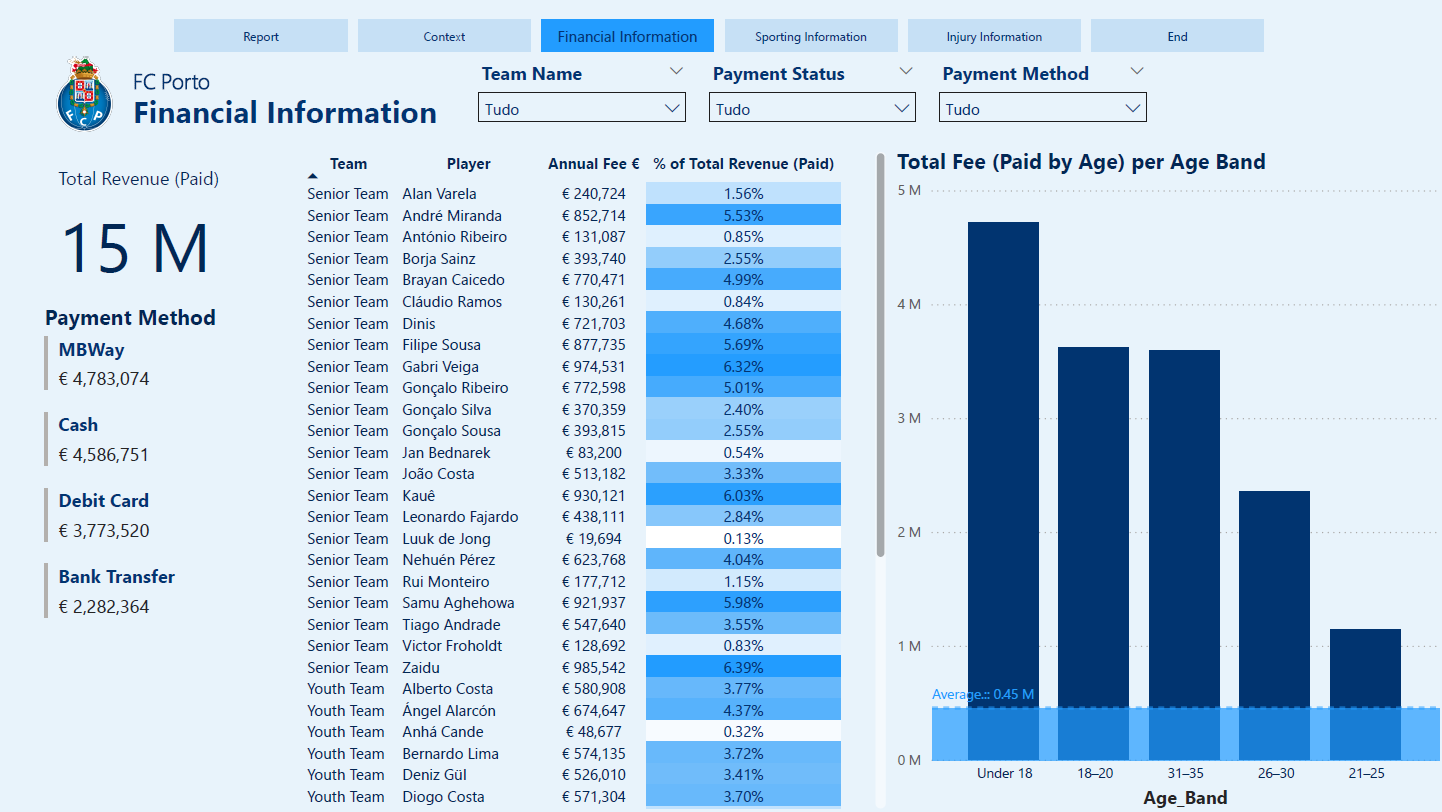

The page's visual inventory and layout, read from the dashboard file:
{"tool":"powerbi","page":{"name":"Financial Information","canvas":[1280,720],"ordinal":2},"visuals":[{"type":"group","id":"g1","title":"Grupo 1","box":[39.5,46.3,375.9,76.6],"z":0},{"type":"image","box":[39.5,46.3,76.2,76.2],"z":0,"group":"g1"},{"type":"multiRowCard","title":"Payment Method","fields":{"Values":["Sum(Financial_Information.Annual_Fee_EUR)","Financial_Information.Payment_Method"]},"box":[38,267.8,205,320.2],"z":0,"group":"g2"},{"type":"textbox","box":[115.4,75.4,300,47.5],"z":1000,"group":"g1"},{"type":"group","id":"g2","title":"Grupo 2","box":[38,130,205,458],"z":1000},{"type":"cardVisual","fields":{"Data":["Financial_Information_Measures.Total Revenue (Paid)"]},"box":[38,130,181.2,128.9],"z":1000,"group":"g2"},{"type":"textbox","box":[115.7,53.8,105,41.2],"z":2000,"group":"g1"},{"type":"tableEx","fields":{"Values":["Teams.Team_Name","Financial_Information.Player_Name","Sum(Financial_Information.Annual_Fee_EUR)","Financial_Information_Measures.% of Total Revenue (Paid)"]},"box":[263.8,130,527.5,590],"z":2000},{"type":"slicer","fields":{"Values":["Teams.Team_Name"]},"box":[415.8,48.9,203.8,71.2],"z":3000},{"type":"slicer","fields":{"Values":["Financial_Information.Payment_Status"]},"box":[619.5,48.9,203.8,71.2],"z":4000},{"type":"slicer","fields":{"Values":["Financial_Information.Payment_Method"]},"box":[823.2,48.9,203.8,71.2],"z":5000},{"type":"lineStackedColumnComboChart","title":"Total Fee (Paid by Age) per Age Band","fields":{"Category":["Personal_Information.Age_Band"],"Y":["_Measures.Total Fee (Paid)"]},"box":[791.2,130,488.8,590],"z":6000},{"type":"pageNavigator","box":[158,18,964,28],"z":7000}]}

Visuals, with their boxes in screenshot pixels (x1, y1, x2, y2), scaled from the page's 1280x720 canvas onto the 1442x812 screenshot:
"Grupo 1" group: {"x1": 44, "y1": 52, "x2": 468, "y2": 139}
image: {"x1": 44, "y1": 52, "x2": 130, "y2": 138}
"Payment Method" multiRowCard: {"x1": 43, "y1": 302, "x2": 274, "y2": 663}
textbox: {"x1": 130, "y1": 85, "x2": 468, "y2": 139}
"Grupo 2" group: {"x1": 43, "y1": 147, "x2": 274, "y2": 663}
cardVisual - Financial_Information_Measures.Total Revenue (Paid): {"x1": 43, "y1": 147, "x2": 247, "y2": 292}
textbox: {"x1": 130, "y1": 61, "x2": 249, "y2": 107}
tableEx - Teams.Team_Name x Financial_Information.Player_Name: {"x1": 297, "y1": 147, "x2": 891, "y2": 811}
slicer - Teams.Team_Name: {"x1": 468, "y1": 55, "x2": 698, "y2": 135}
slicer - Financial_Information.Payment_Status: {"x1": 698, "y1": 55, "x2": 927, "y2": 135}
slicer - Financial_Information.Payment_Method: {"x1": 927, "y1": 55, "x2": 1157, "y2": 135}
"Total Fee (Paid by Age) per Age Band" lineStackedColumnComboChart: {"x1": 891, "y1": 147, "x2": 1441, "y2": 811}
pageNavigator: {"x1": 178, "y1": 20, "x2": 1264, "y2": 52}
